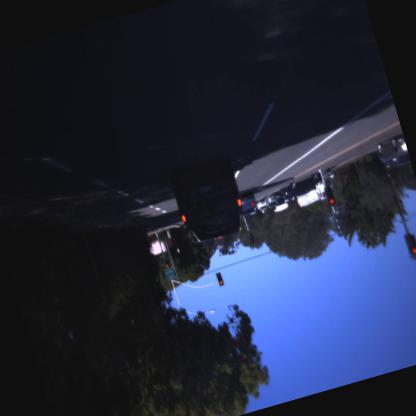trafficlight: (320, 178, 340, 212), (157, 245, 176, 274), (210, 263, 228, 292), (400, 230, 415, 261)
